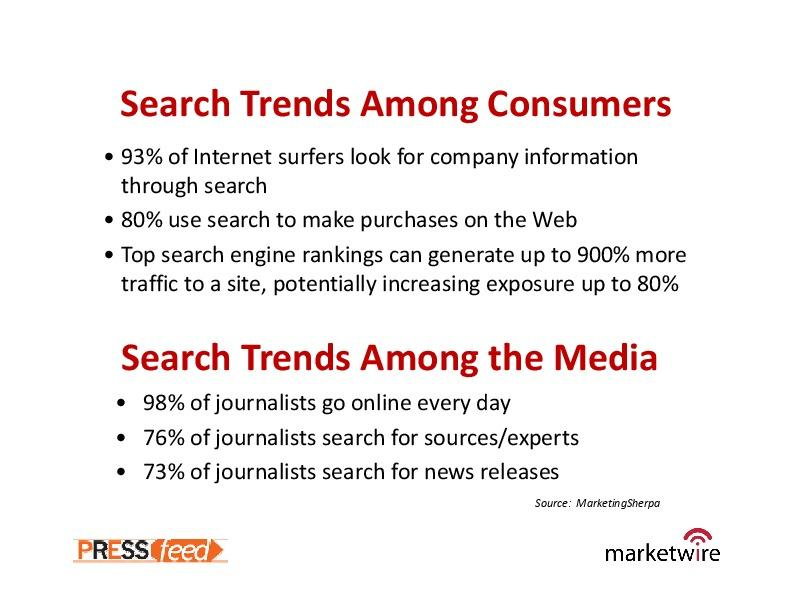paragraph: (97, 136, 721, 302), (105, 391, 733, 494)
title: (112, 329, 673, 385), (113, 77, 681, 125)
